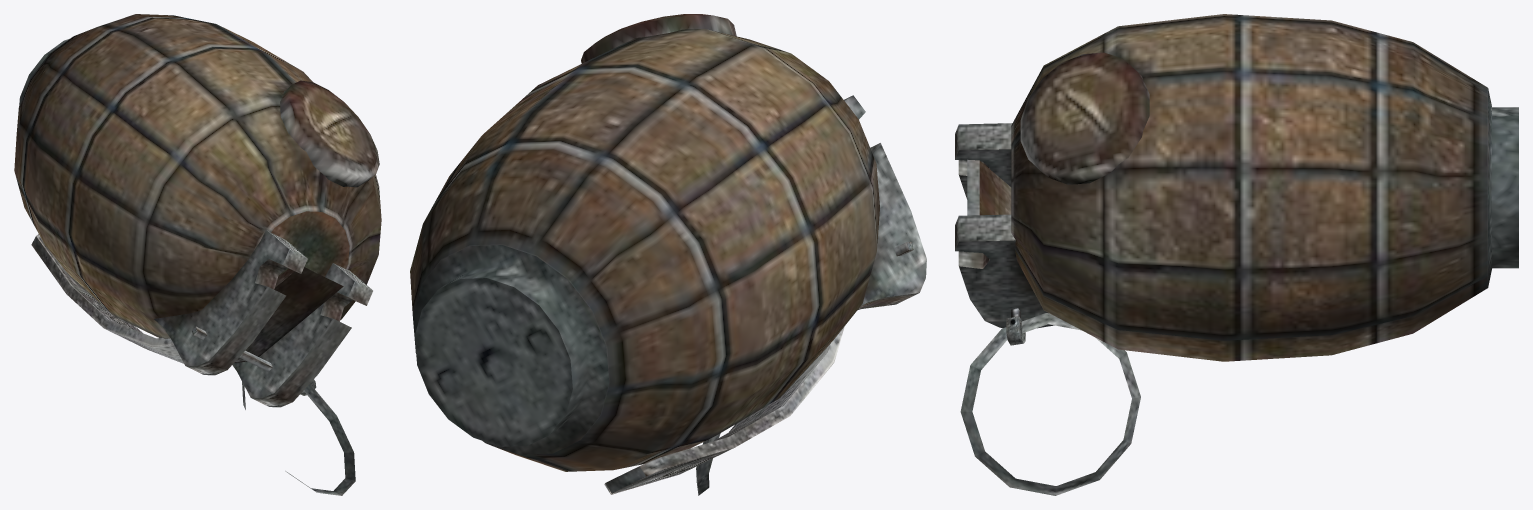
Rendered from weapon_mk1grenade.glb.
3 renders of one model, left to right at view 1: azimuth 30°, elevation 25°; view 2: azimuth 150°, elevation 25°; view 3: azimuth 270°, elevation 25°, orthographic. The views are drawn at different scales.
Bounding box in the file's own units: 2.46 × 3.46 × 3.94.
1 material, 1 textured.
